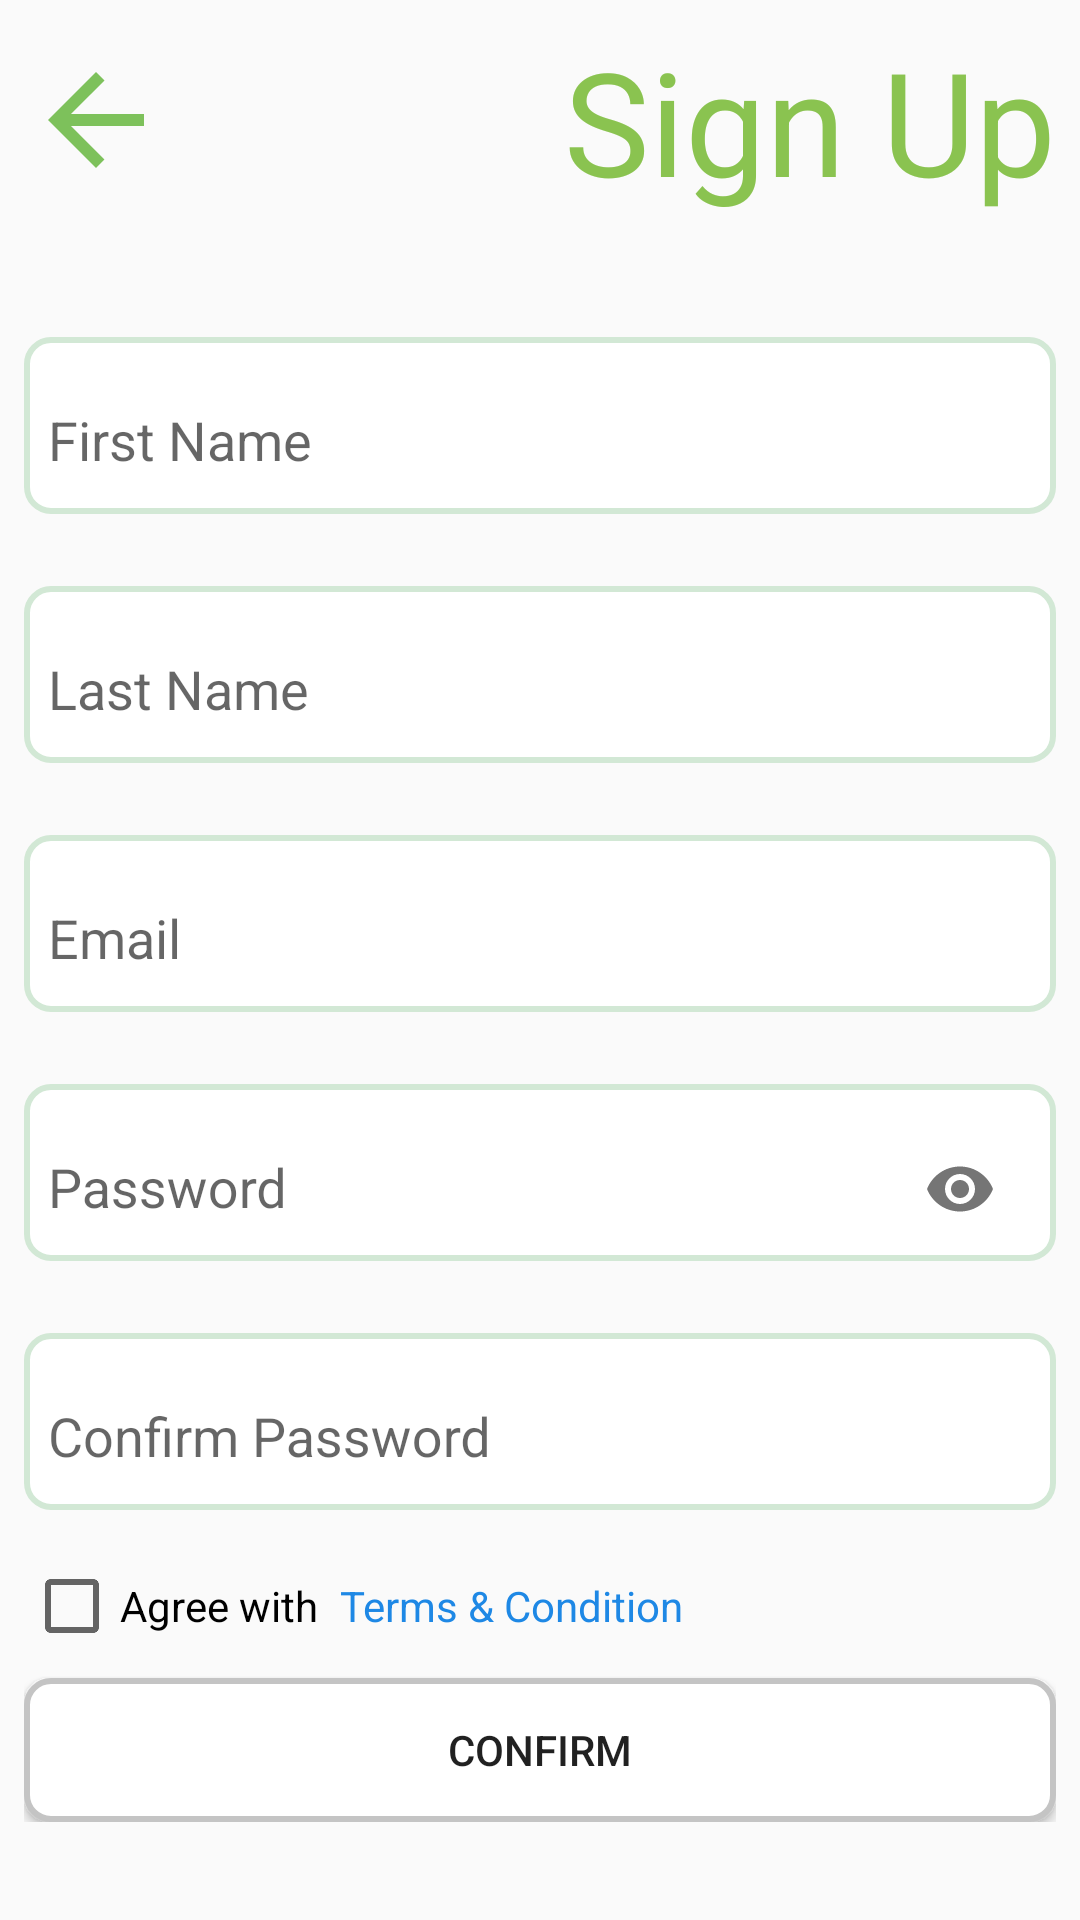

Where to tap for icons on this 1080*1920 app screen, as (x=x, y=y):
arrow back: (x=96, y=120)
